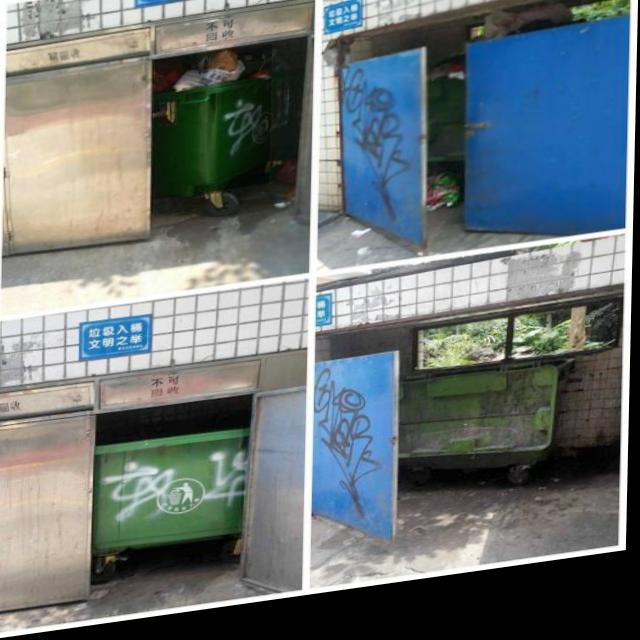garbage: (426, 184, 458, 222)
garbage_bin: (94, 433, 245, 557)
overflow: (153, 52, 272, 205)
